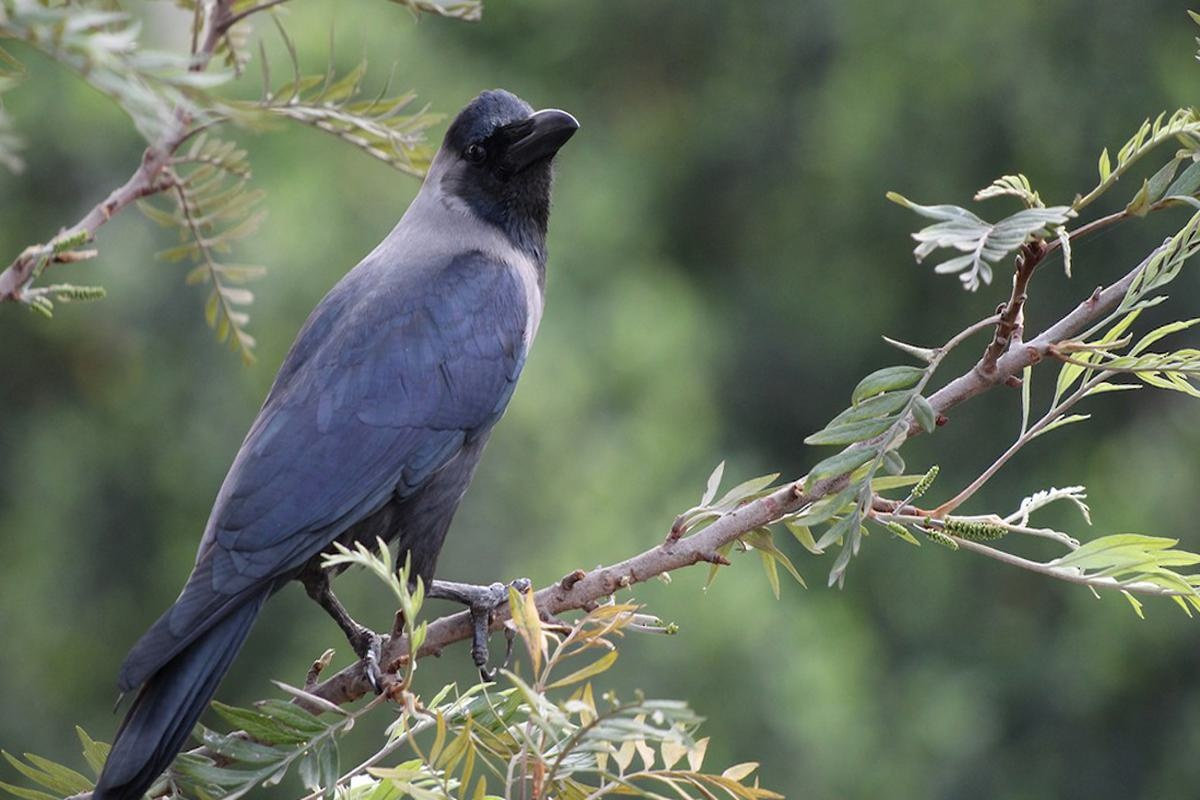crow: (119, 79, 580, 800)
